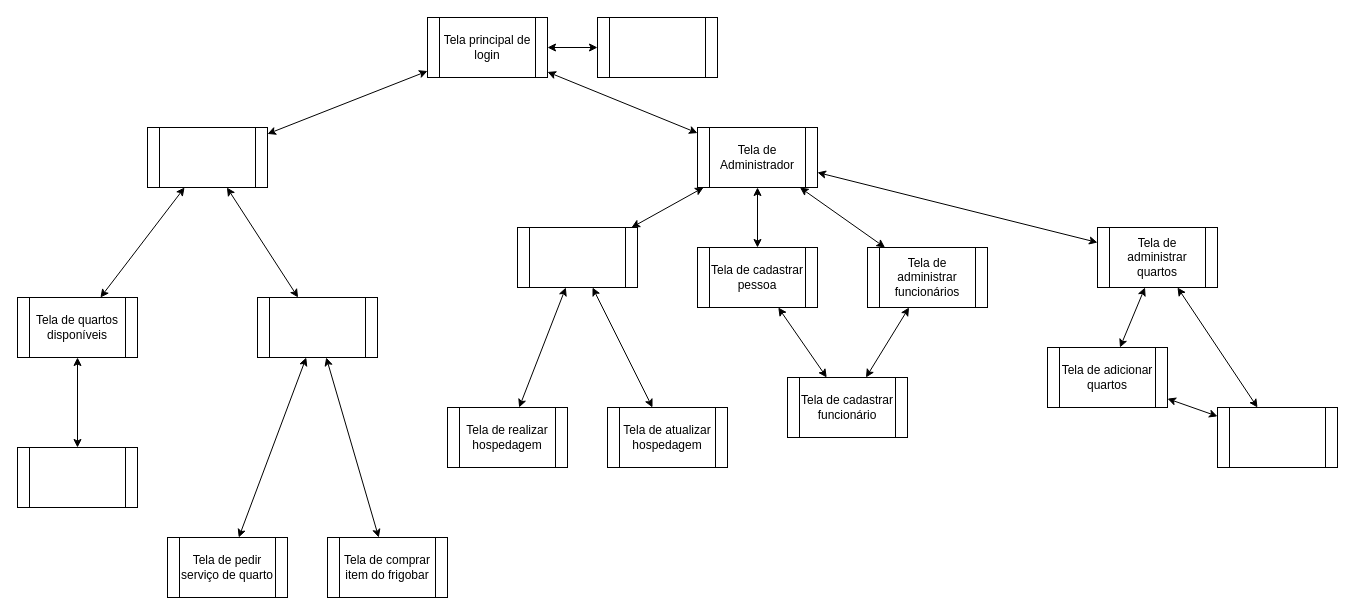
This 1355x615 diagram has some shape labels left out. The centre of each missing label's shape, as x and y in pixels:
Tela de administrar hospedagens: pixel 577 257
Tela de atualizar frigobar: pixel 1277 437
Tela de atualizar hospedagens: pixel 317 327
Tela de cadastrar usuário: pixel 657 47
Tela de realizar reserva: pixel 77 477
Tela do usuário: pixel 207 157
